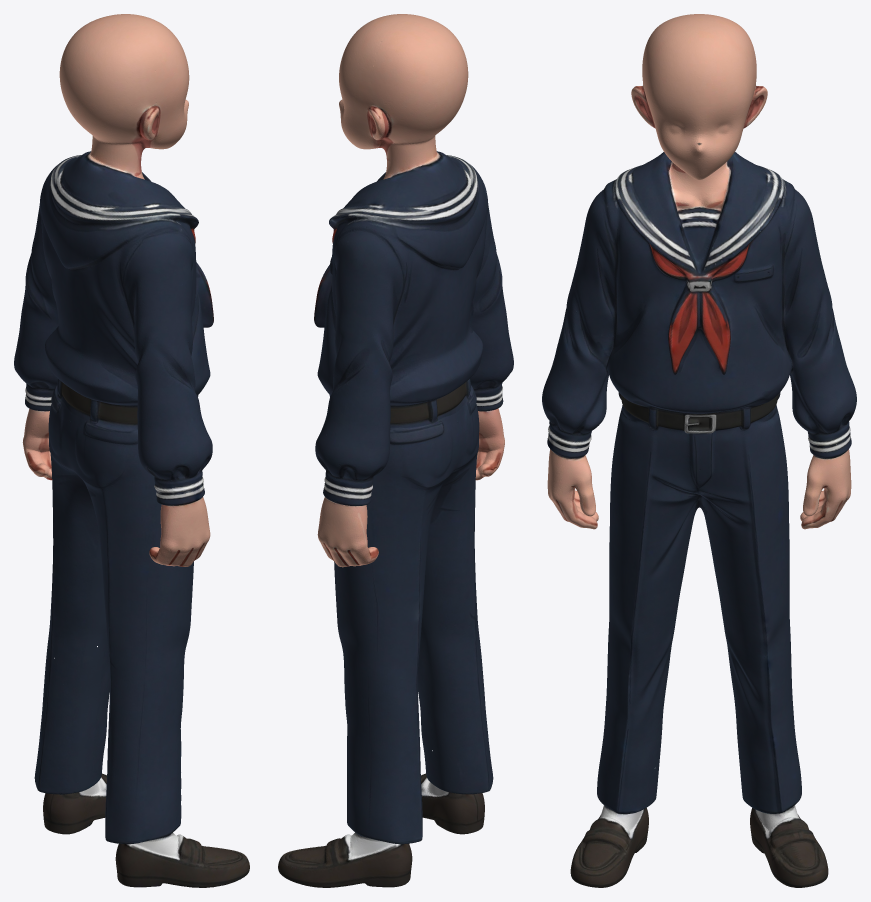
File: sailor+school+uniform+3d+model.glb
The picture shows the model from 3 angles, left to right: view 1: azimuth 30°, elevation 25°; view 2: azimuth 150°, elevation 25°; view 3: azimuth 270°, elevation 25°; orthographic projection.
Parts seen in each view (by area): view 1: tripo_node_ac791939-1bdb-4992-83c8-4b262be480b7; view 2: tripo_node_ac791939-1bdb-4992-83c8-4b262be480b7; view 3: tripo_node_ac791939-1bdb-4992-83c8-4b262be480b7.
Part boxes in pixels (x1=…): tripo_node_ac791939-1bdb-4992-83c8-4b262be480b7: x1=14, y1=14, x2=249, y2=887; tripo_node_ac791939-1bdb-4992-83c8-4b262be480b7: x1=278, y1=14, x2=513, y2=887; tripo_node_ac791939-1bdb-4992-83c8-4b262be480b7: x1=542, y1=14, x2=856, y2=887.
Size of the model in its own units: 0.1771 by 1 by 0.3419.
1 material, 1 textured.
